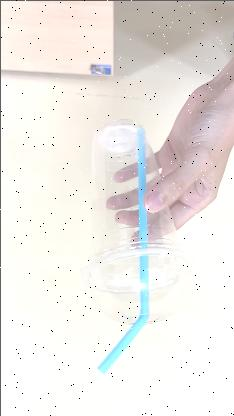Others: (76, 120, 194, 352)
